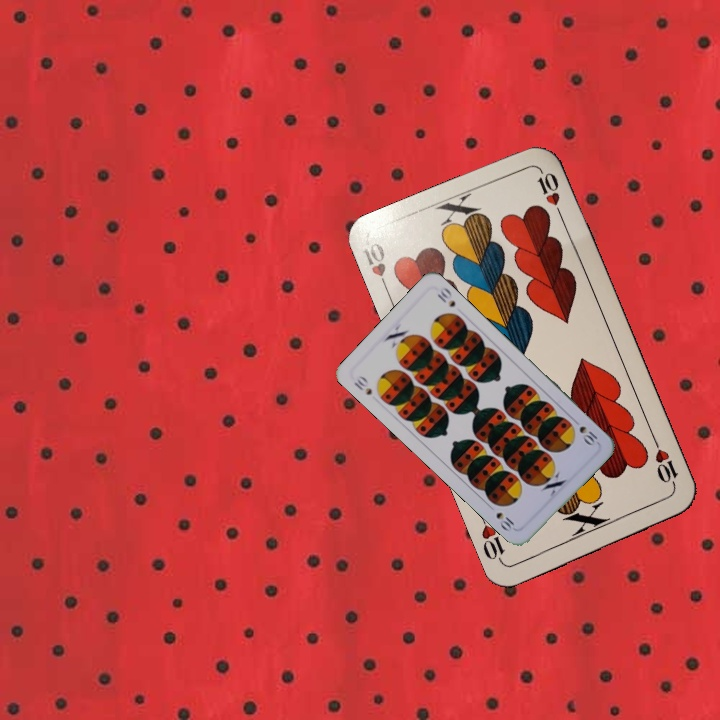H10: (359, 235, 392, 296), (649, 435, 681, 491)
S10: (568, 415, 601, 448), (349, 371, 375, 398)
